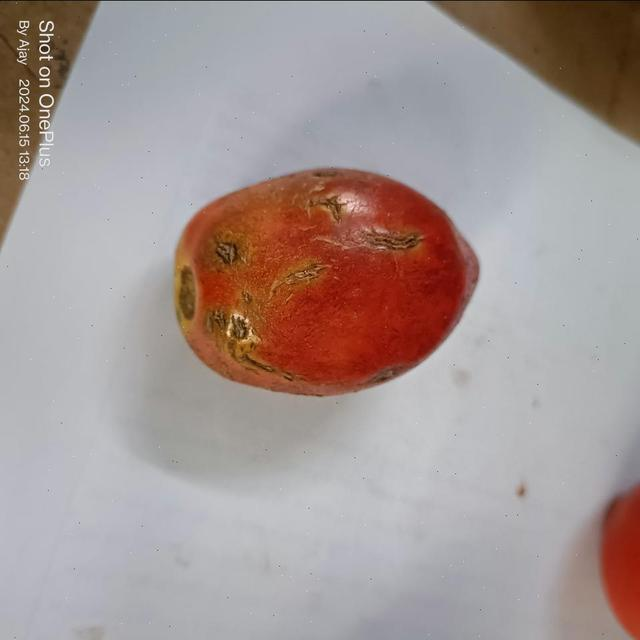Bacterial Spot Fruit: (14, 16, 266, 218)
